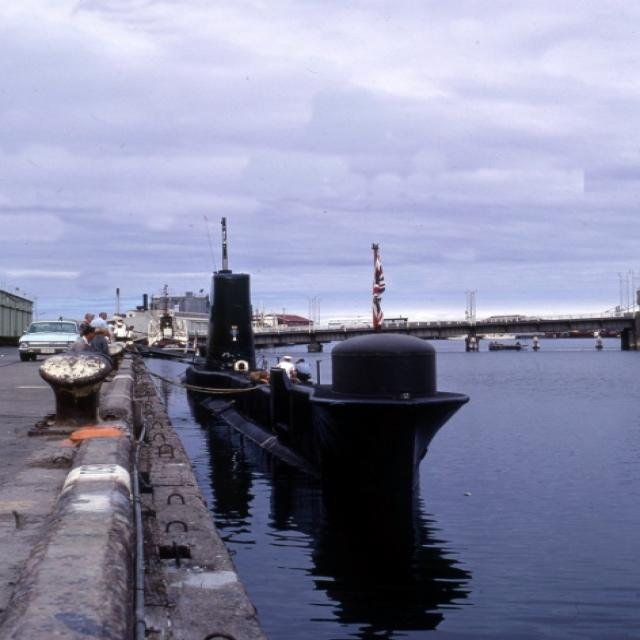submarine: (184, 266, 472, 502)
